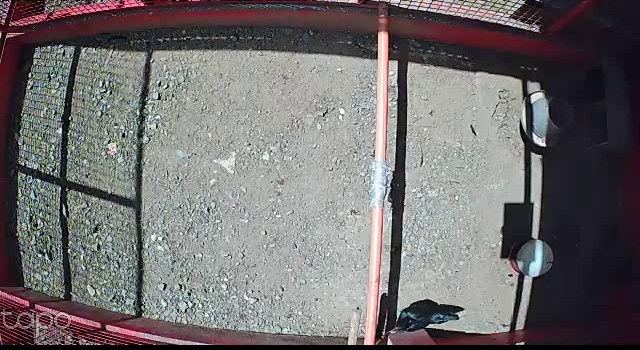Chicken: (389, 295, 458, 337)
Drinker: (507, 236, 555, 279)
Feeder: (521, 91, 579, 147)
